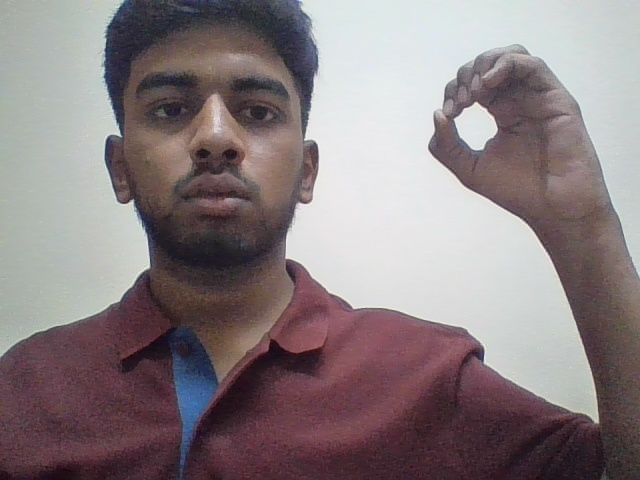O: (414, 30, 630, 229)
